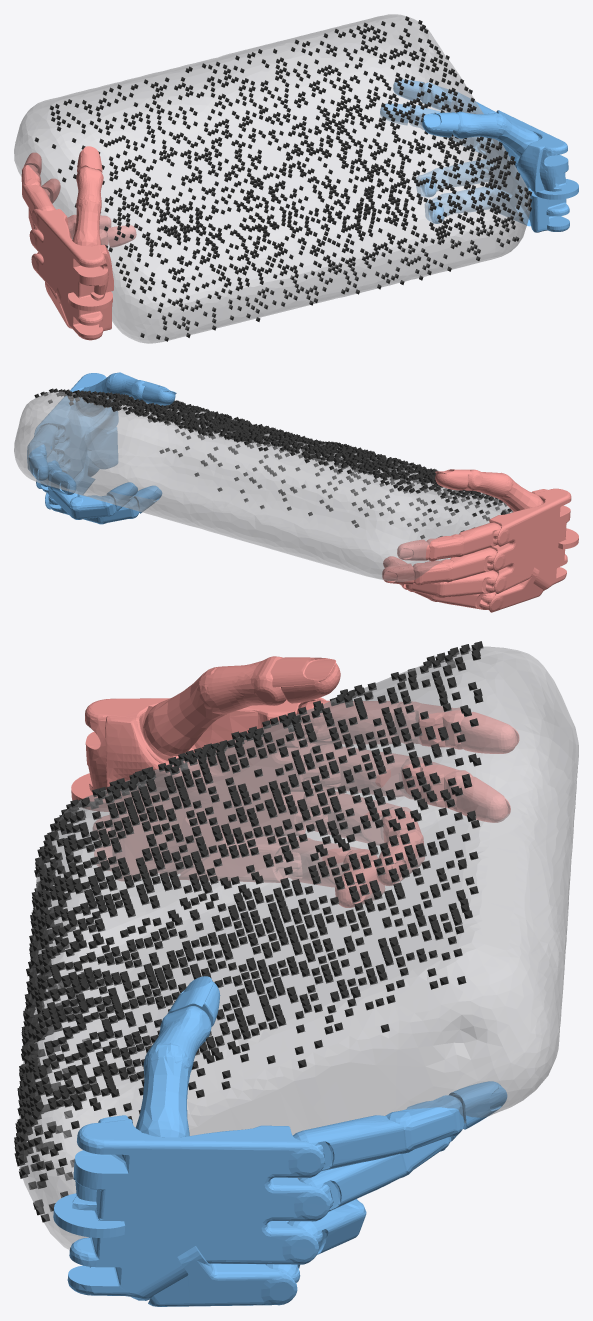
3 renders of one model, top to bottom at view 1: azimuth 30°, elevation 25°; view 2: azimuth 150°, elevation 25°; view 3: azimuth 270°, elevation 25°, orthographic. The views are drawn at different scales.
Visible parts, largest first — view 1: object_mesh_visualization_only, object_pointcloud, right_shadow_hand, left_shadow_hand; view 2: object_mesh_visualization_only, left_shadow_hand, right_shadow_hand, object_pointcloud; view 3: object_mesh_visualization_only, object_pointcloud, right_shadow_hand, left_shadow_hand.
Part boxes in pixels (x1=…): object_mesh_visualization_only: x1=14, y1=14, x2=530, y2=343; object_pointcloud: x1=34, y1=16, x2=532, y2=341; right_shadow_hand: x1=380, y1=79, x2=578, y2=232; left_shadow_hand: x1=21, y1=146, x2=136, y2=340; object_mesh_visualization_only: x1=14, y1=391, x2=512, y2=581; left_shadow_hand: x1=382, y1=469, x2=578, y2=612; right_shadow_hand: x1=27, y1=372, x2=176, y2=524; object_pointcloud: x1=34, y1=388, x2=512, y2=538; object_mesh_visualization_only: x1=18, y1=646, x2=578, y2=1249; object_pointcloud: x1=14, y1=641, x2=483, y2=1222; right_shadow_hand: x1=53, y1=976, x2=507, y2=1306; left_shadow_hand: x1=71, y1=656, x2=519, y2=907.
Size of the model in its own units: 0.4992 by 0.1694 by 0.2587.
